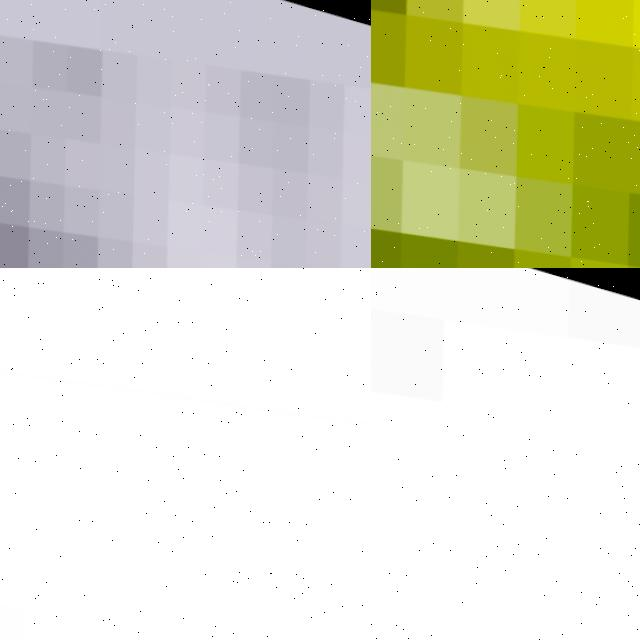0: (0, 0, 371, 268)
drone: (0, 268, 371, 640), (371, 268, 640, 640), (371, 0, 640, 268)
